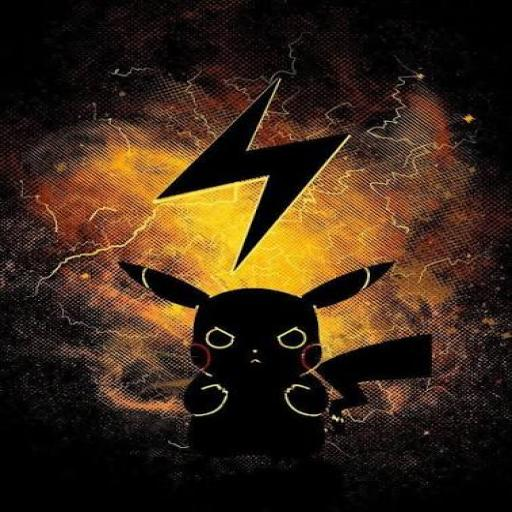Pikachu: (116, 260, 432, 470)
